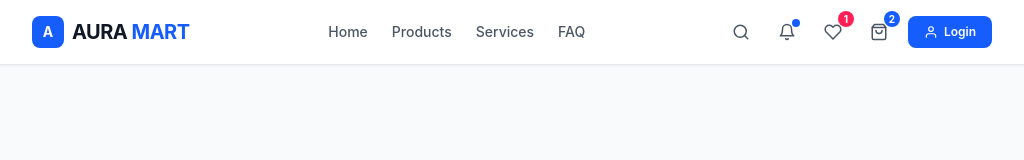
Header Component › toggles search input field when search button is clicked
The width and height of the screenshot is (1024, 160).
Click the button named "Toggle Search Bar" at {"x": 741, "y": 32}, box 724,15 -> 758,49
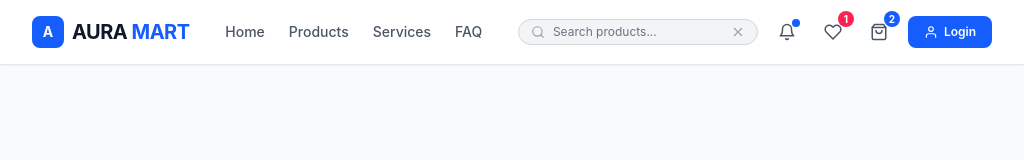
Result: the field with placeholder "Search products..." is shown at 553,24 -> 727,40
